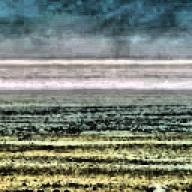boar: (130, 181, 172, 192)
